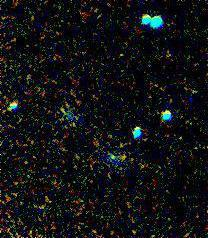star: (105, 146, 135, 176)
